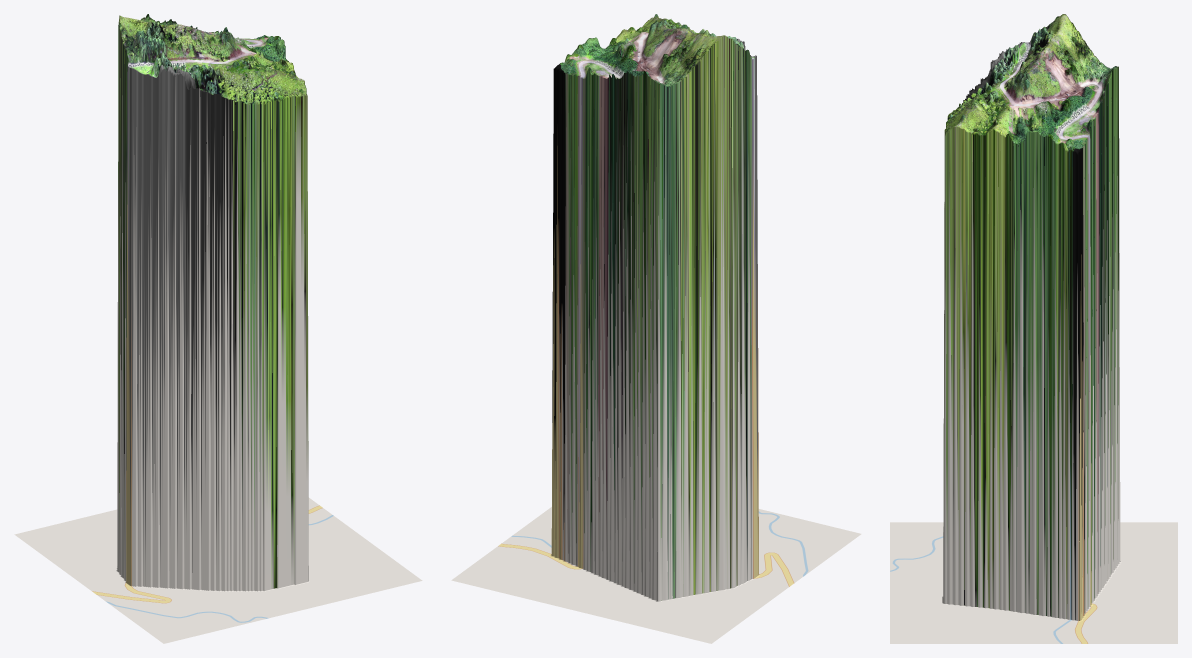
Rendered from nkh_eboulement_v0.gltf.
3 renders of one model, left to right at view 1: azimuth 30°, elevation 25°; view 2: azimuth 150°, elevation 25°; view 3: azimuth 270°, elevation 25°, orthographic. The views are drawn at different scales.
Parts seen in each view (by area): view 1: nkh_eboulement_mns_50cm_3857; view 2: nkh_eboulement_mns_50cm_3857; view 3: nkh_eboulement_mns_50cm_3857.
Part boxes in pixels (x1,y1,x2,y2): nkh_eboulement_mns_50cm_3857: (14,14,422,643); nkh_eboulement_mns_50cm_3857: (451,14,861,643); nkh_eboulement_mns_50cm_3857: (890,14,1177,643).
Size of the model in its own units: 509 by 1034 by 509.
1 material, 1 textured.
